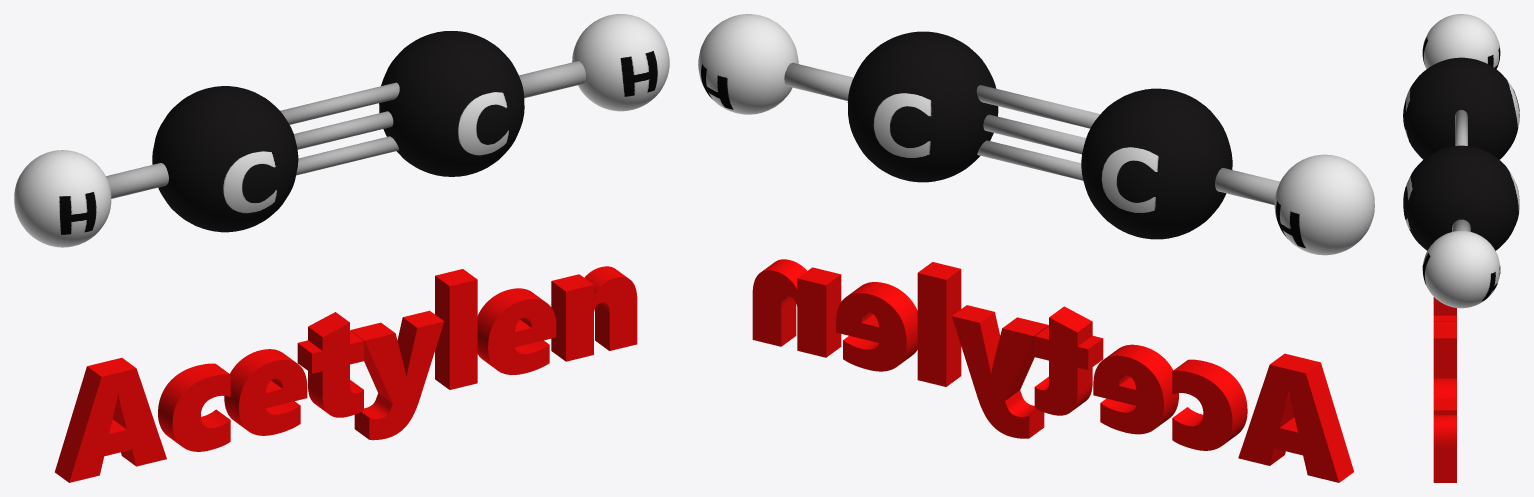
Rendered from axetylen.gltf.
3 views of the same model, side by side, from view 1: azimuth 30°, elevation 25°; view 2: azimuth 150°, elevation 25°; view 3: azimuth 270°, elevation 25° (orthographic). The views are drawn at different scales.
Visible parts, largest first — view 1: Extrude.1, C3_fracturepart (×2), polySurface9_fracturepart (×2), polySurface11_fracturepart (×5); view 2: Extrude.1, C3_fracturepart (×2), polySurface9_fracturepart (×2), polySurface11_fracturepart (×5); view 3: C3_fracturepart (×2), polySurface9_fracturepart (×2), Extrude.1, polySurface11_fracturepart (×2).
Part boxes in pixels (bbox=[...]): Extrude.1: bbox=[55, 266, 637, 482]; C3_fracturepart (×2): bbox=[152, 31, 524, 232]; polySurface9_fracturepart (×2): bbox=[14, 14, 669, 247]; polySurface11_fracturepart (×5): bbox=[106, 61, 585, 198]; Extrude.1: bbox=[752, 259, 1353, 482]; C3_fracturepart (×2): bbox=[847, 31, 1232, 239]; polySurface9_fracturepart (×2): bbox=[698, 14, 1374, 255]; polySurface11_fracturepart (×5): bbox=[784, 62, 1279, 204]; C3_fracturepart (×2): bbox=[1403, 57, 1519, 250]; polySurface9_fracturepart (×2): bbox=[1422, 14, 1500, 308]; Extrude.1: bbox=[1433, 297, 1456, 482]; polySurface11_fracturepart (×2): bbox=[1452, 110, 1470, 231].
Size of the model in its own units: 7.61 by 4.17 by 1.51.
4 materials, 2 textured.
